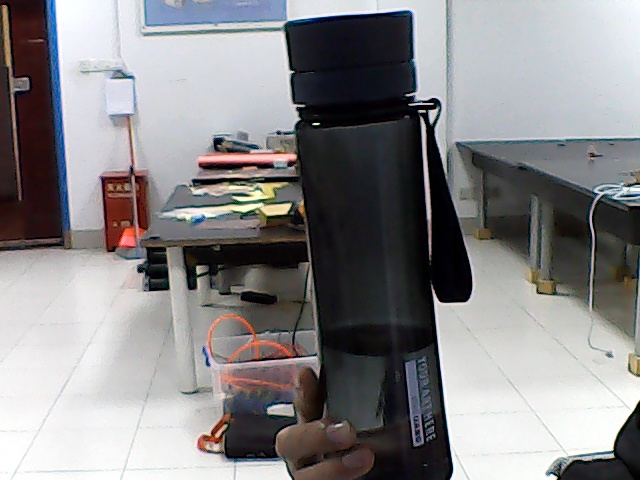cup: (321, 23, 417, 419)
